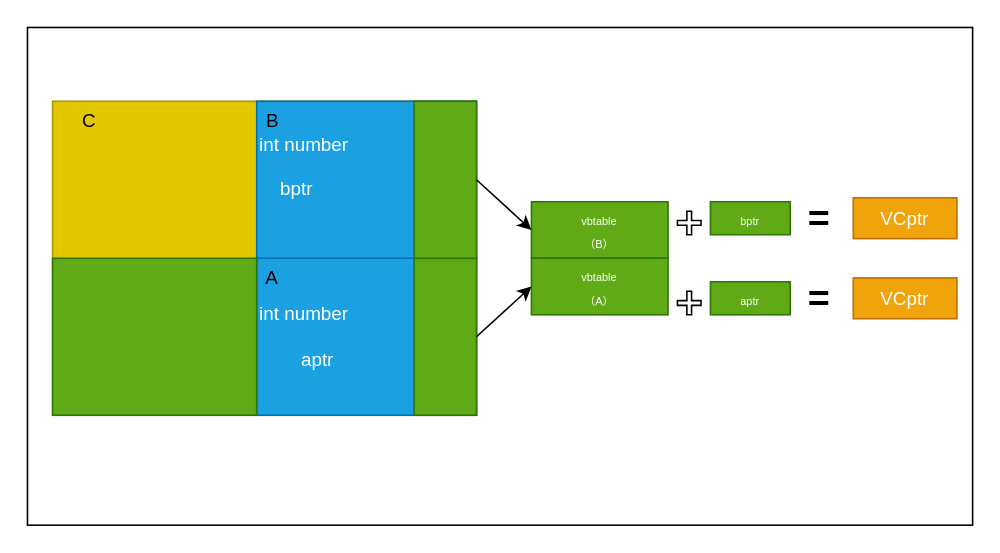
Some shapes in this 1000 by 553 pixel diagram are drawn without their labels. The centre of each missing label's shape, as x and y in pixels:
"VirtualClass int vInt VCptr" belongs at point 154,336.
"vtptr （A）" belongs at point 444,336.
"vtptr （B）" belongs at point 444,179.
